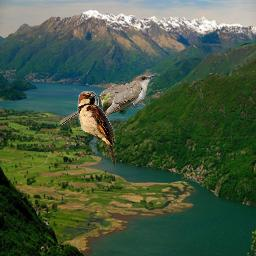Cuckoo: (59, 74, 155, 125)
Swallow: (77, 91, 116, 166)
